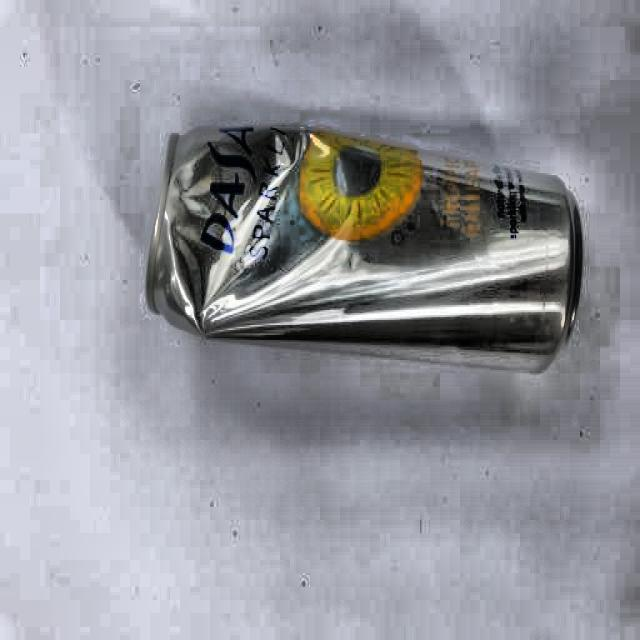metal: (144, 121, 582, 373)
